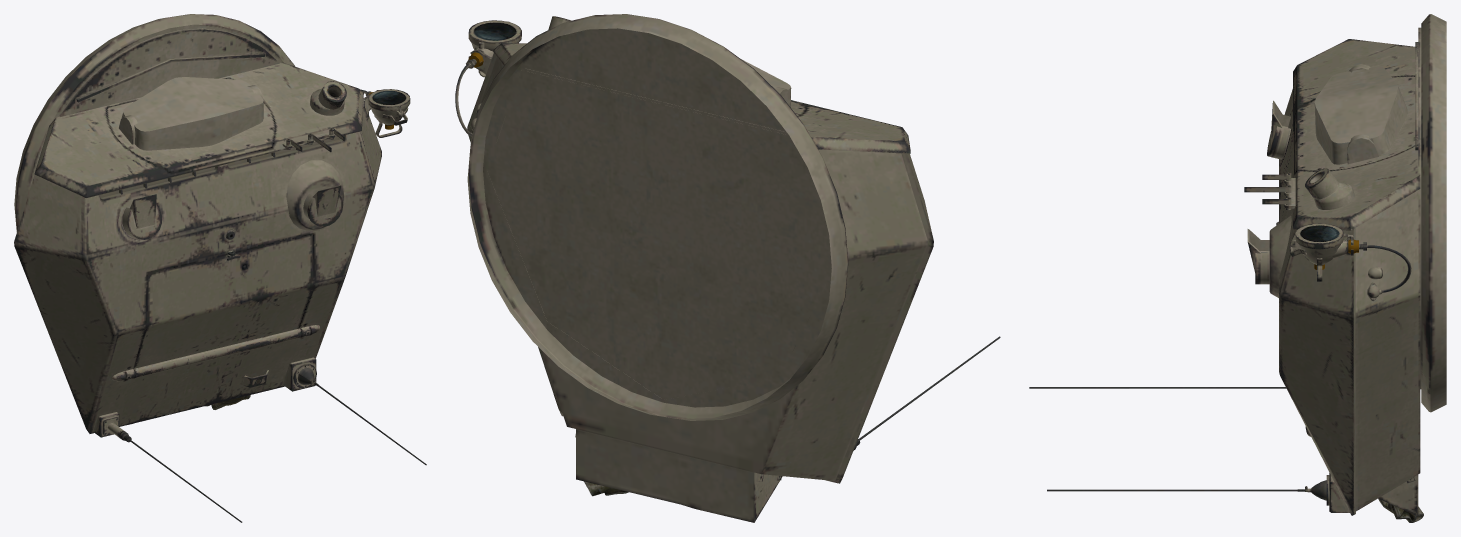
Rendered from Turret_01.glb.
3 views of the same model, side by side, from view 1: azimuth 30°, elevation 25°; view 2: azimuth 150°, elevation 25°; view 3: azimuth 270°, elevation 25° (orthographic). The views are drawn at different scales.
Parts seen in each view (by area): view 1: set_0_group_0; view 2: set_0_group_0; view 3: set_0_group_0.
Part boxes in pixels (x1,y1,x2,y2): set_0_group_0: [14, 14, 426, 522]; set_0_group_0: [455, 14, 1000, 522]; set_0_group_0: [1029, 14, 1446, 522].
Size of the model in its own units: 1.94 by 1.93 by 1.6.
Materials: 1 (1 with a texture image).
